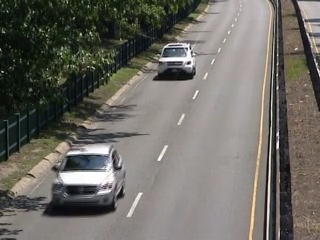car: (48, 140, 127, 212), (149, 40, 200, 84)
